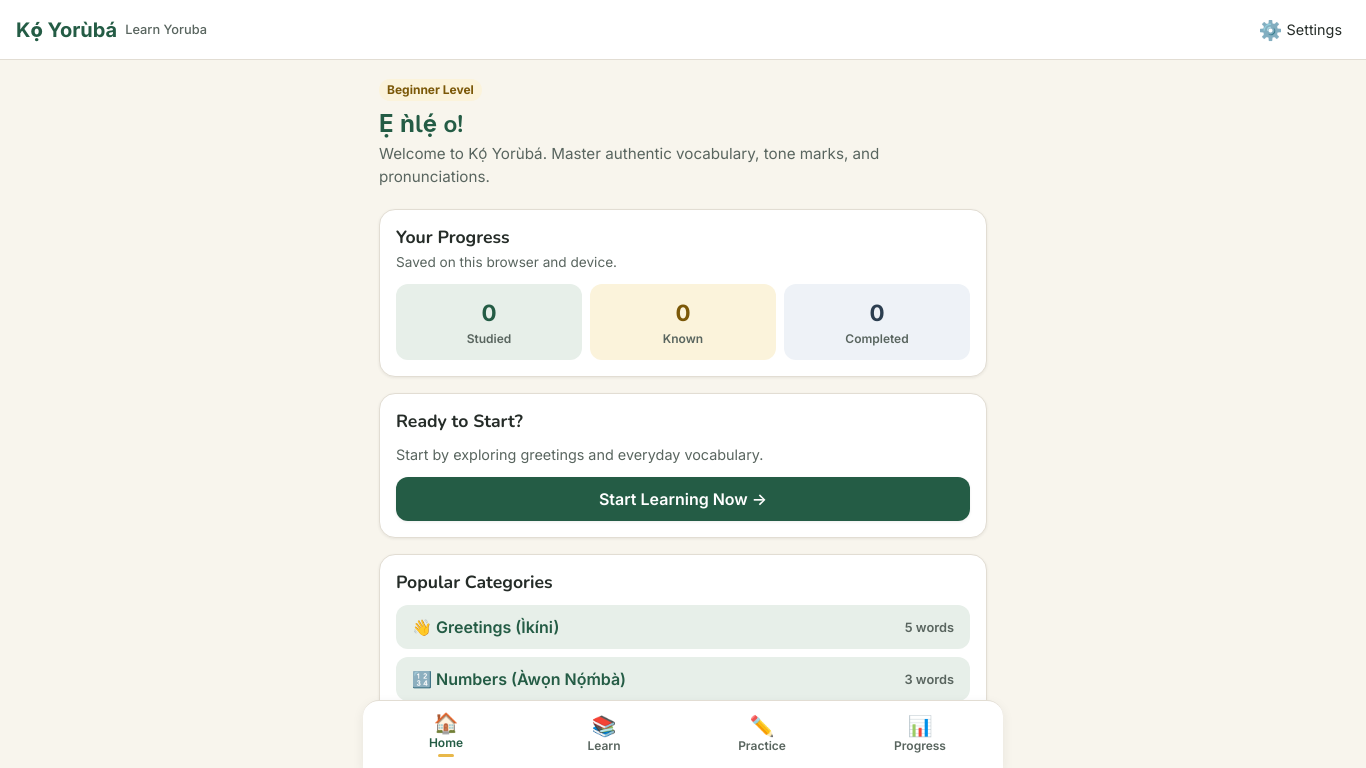
it: Settings, Storage Disclaimer, and Confirmed Reset › displays local-only storage notice on Settings and Progress screens
// Check Settings view
Step 1. Click the button with aria-label "Settings and Preferences" → [1300, 30], box left=1251, top=8, right=1350, bottom=52
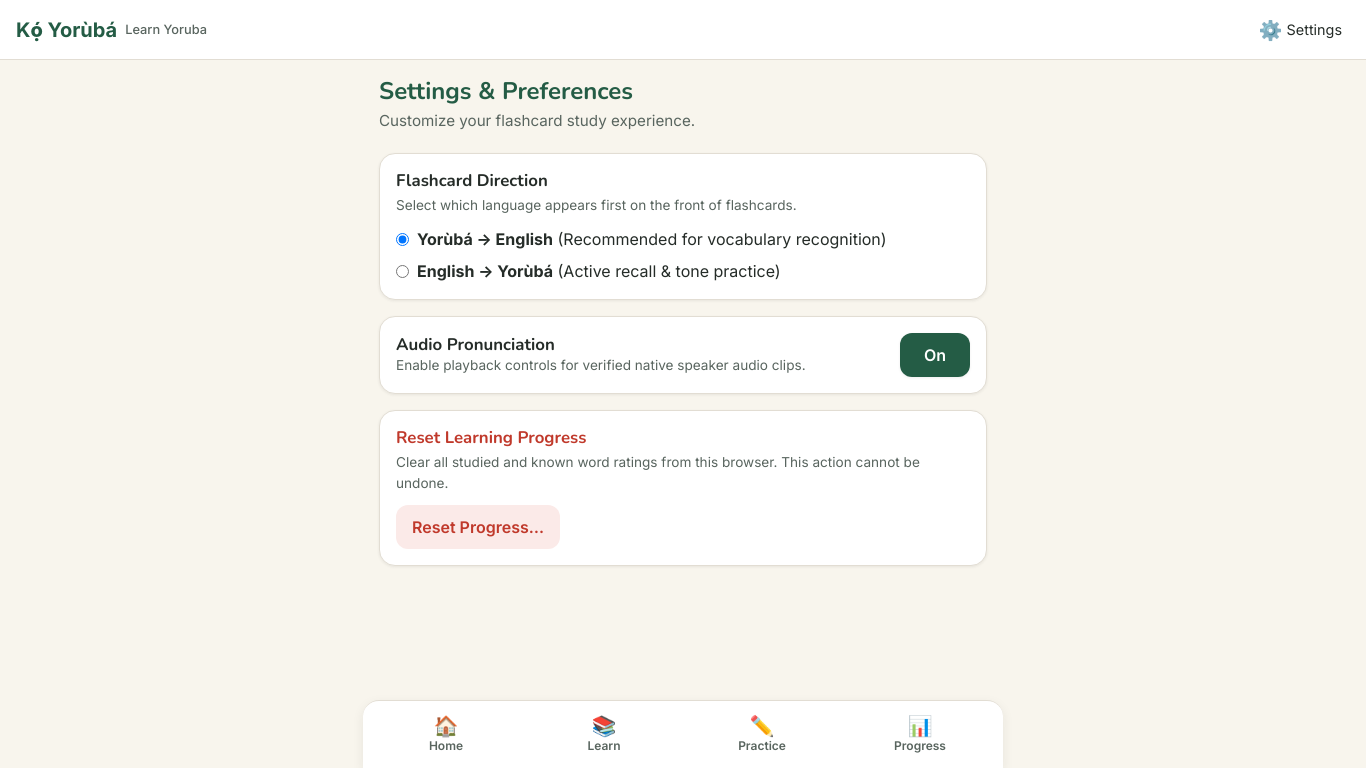
Expected: the heading "Reset Learning Progress" is shown, left=396, top=426, right=586, bottom=449
Expected: the text "Clear all studied and known word ratings from this browser" is shown, left=396, top=454, right=920, bottom=491
// Check Progress view
Step 2. Click the button "📊 Progress" → [920, 734], box left=841, top=701, right=999, bottom=767
(page scrolled)
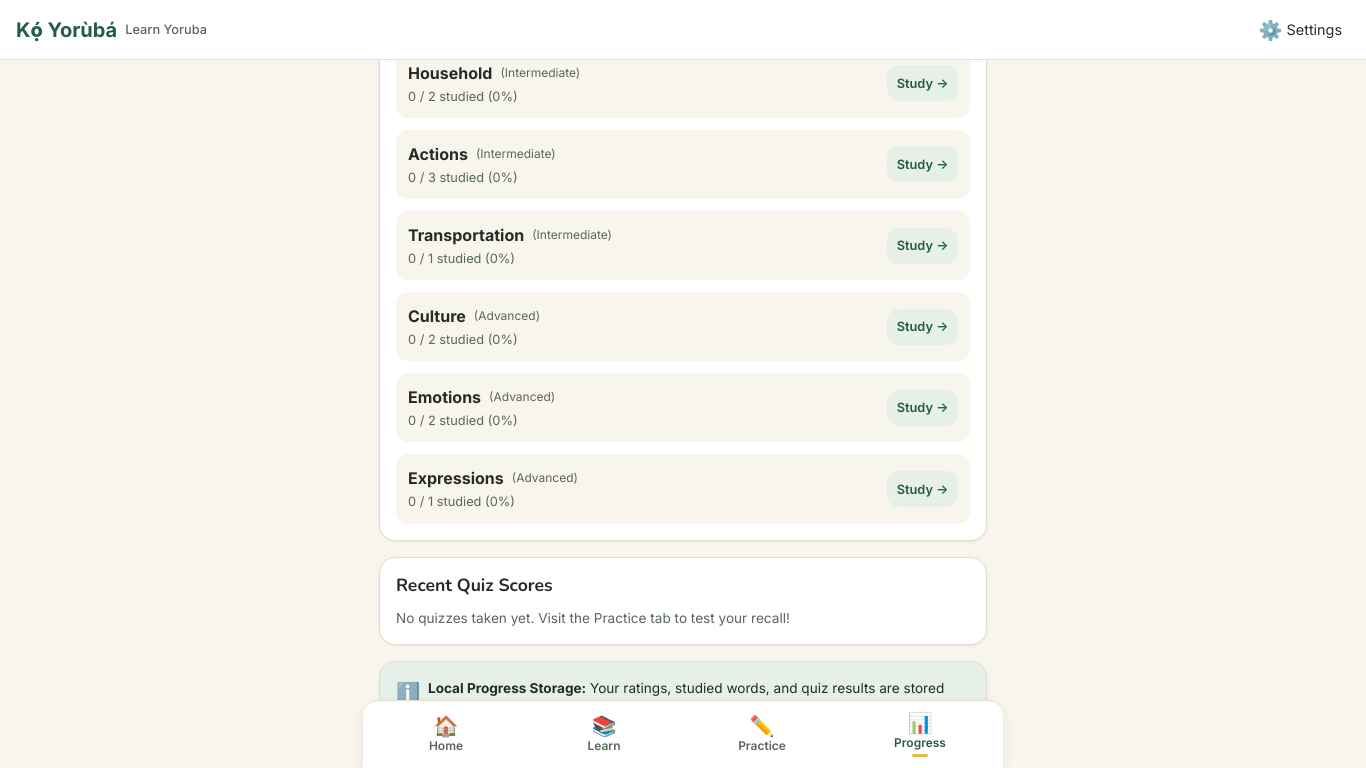
Expected: the text "Local Progress Storage:" is shown, left=428, top=680, right=586, bottom=696
Expected: the text "No account is required" is shown, left=428, top=680, right=944, bottom=716
